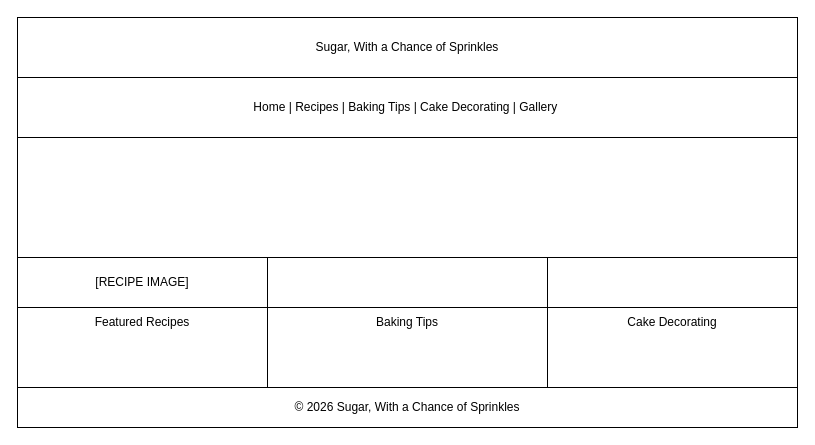
The diagram is 815 pixels wide and 445 high, and some of its shapes have lost their labels. Here are the shapes that lost their labels. From the top down, the centre of each, then its label:
(x=407, y=197): [MAIN BAKING IMAGE] Welcome / short message
(x=407, y=282): [BAKING TIPS IMAGE]
(x=672, y=282): [CAKE DECORATING IMAGE]
